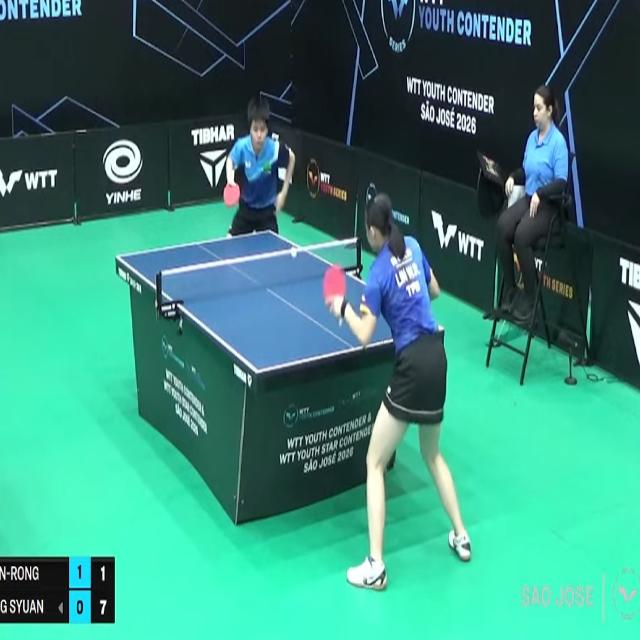TT Net: (151, 236, 368, 311)
TT Racket: (314, 255, 355, 309), (219, 181, 243, 211)
TT Table: (112, 207, 448, 392)
